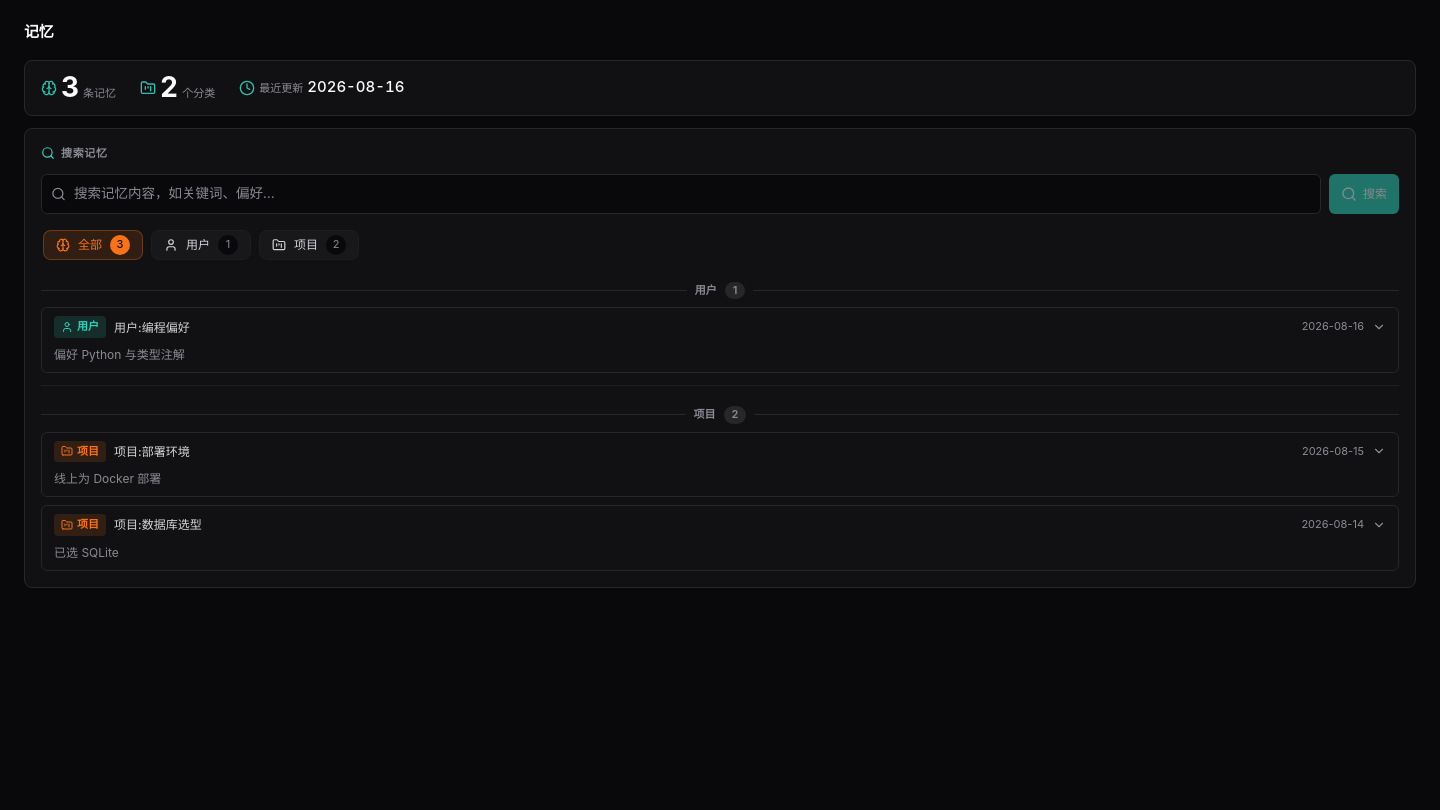
Test: MemoryViewer › 搜索无结果时展示空态
This screenshot has width=1440, height=810.
Step 1. Type "zzz" into the field with test id "search-input" → [681, 194], box [41,174,1321,214]
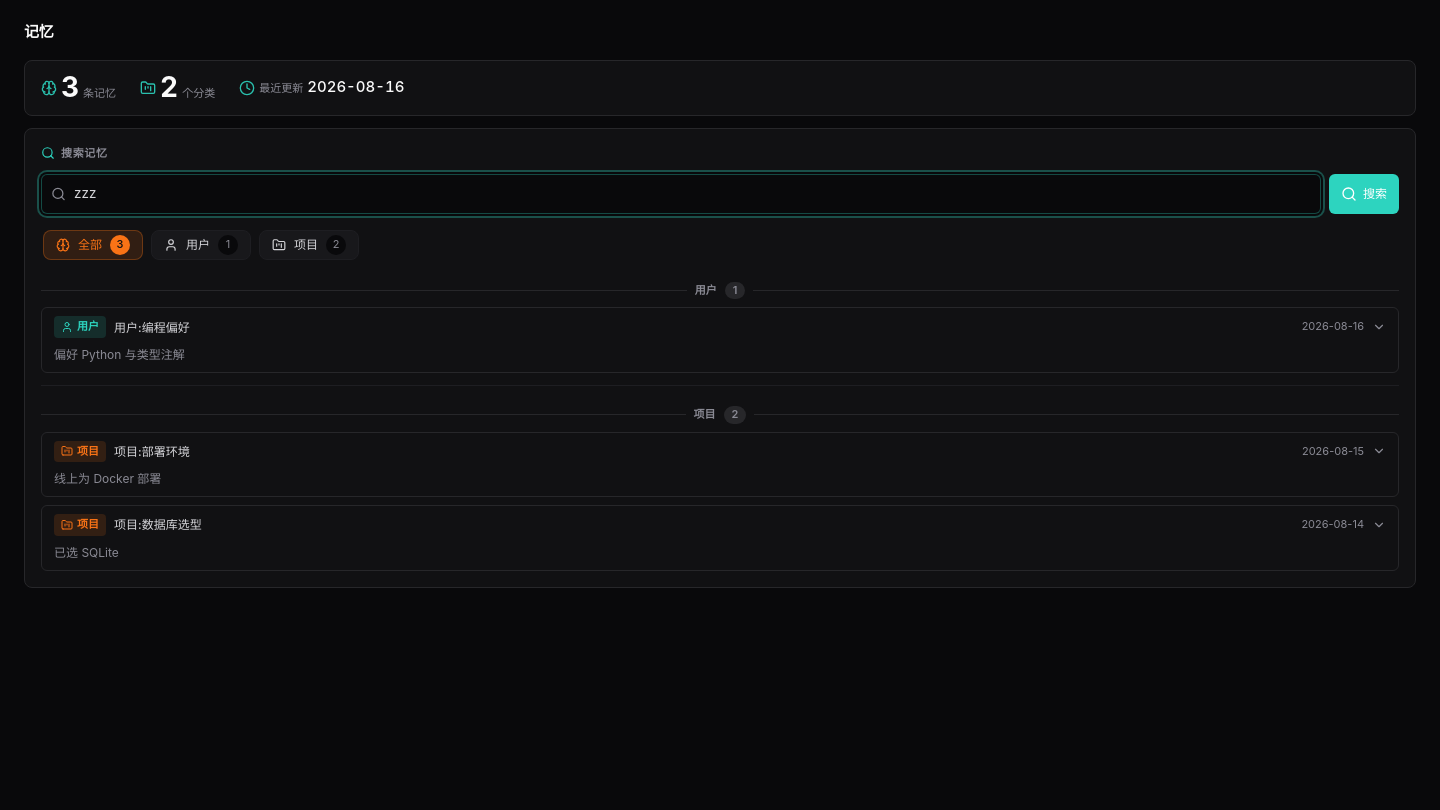
Step 2. Click the button with test id "search-button" → [1364, 194], box [1329,174,1399,214]
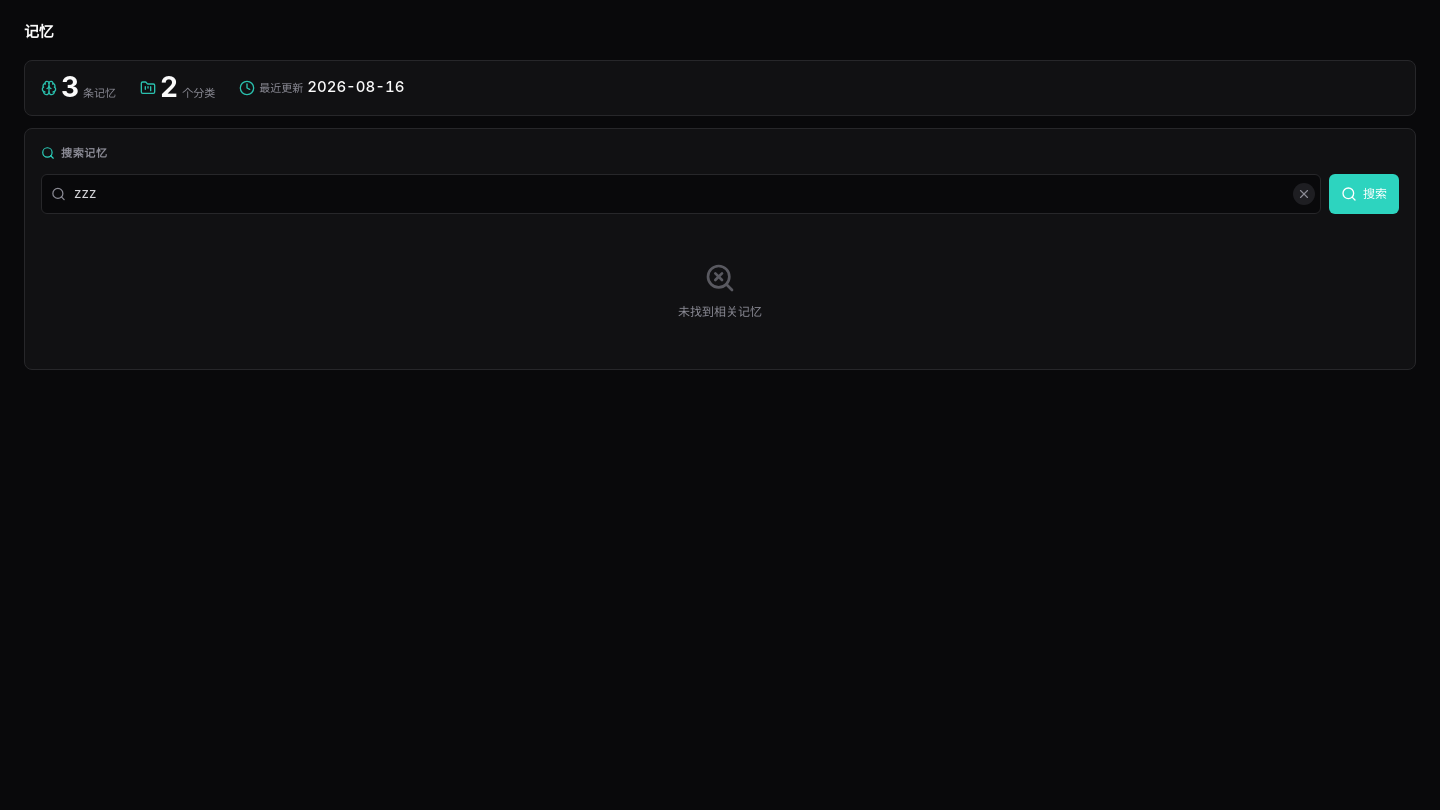
Expected: the element with test id "memory-no-results" is shown, [678,262,762,319]
